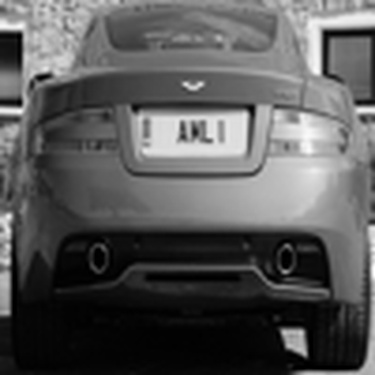car: (5, 2, 365, 366)
